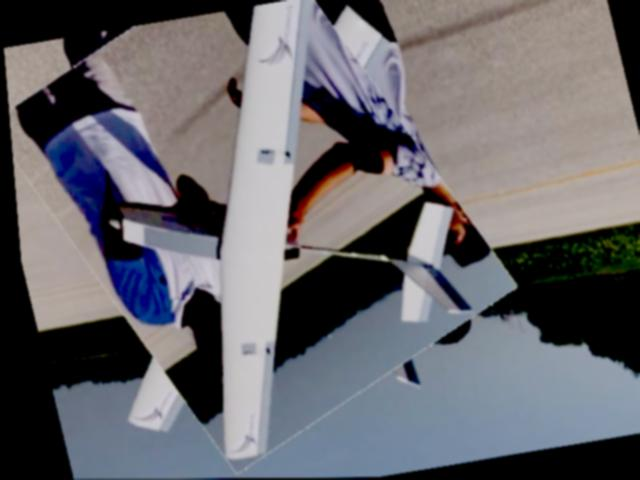insansiz-hava-araci: (0, 0, 508, 470)
